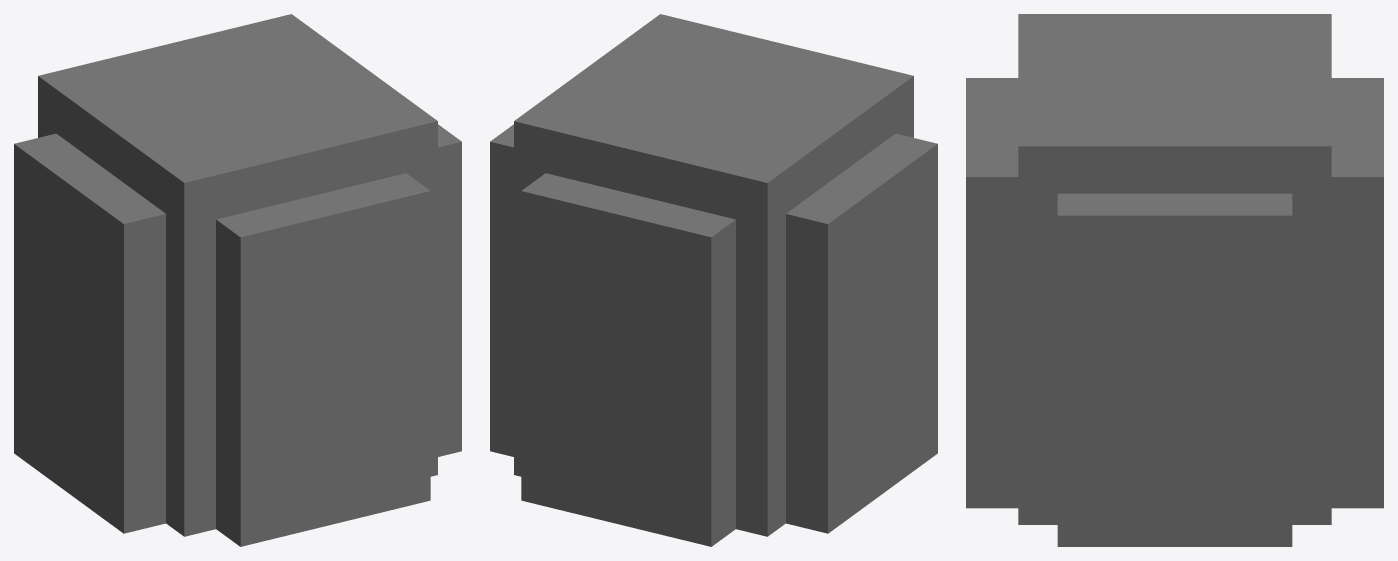
File: Mushburg_wall_2.glb
3 renders of one model, left to right at view 1: azimuth 30°, elevation 25°; view 2: azimuth 150°, elevation 25°; view 3: azimuth 270°, elevation 25°, orthographic. The views are drawn at different scales.
Parts seen in each view (by area): view 1: wall_2; view 2: wall_2; view 3: wall_2.
Part boxes in pixels (box(x1,y1,x2,y2)): wall_2: box(14, 14, 461, 546); wall_2: box(490, 14, 937, 546); wall_2: box(966, 14, 1383, 546).
Size of the model in its own units: 1 by 1 by 1.
Materials: 1 (1 with a texture image).
